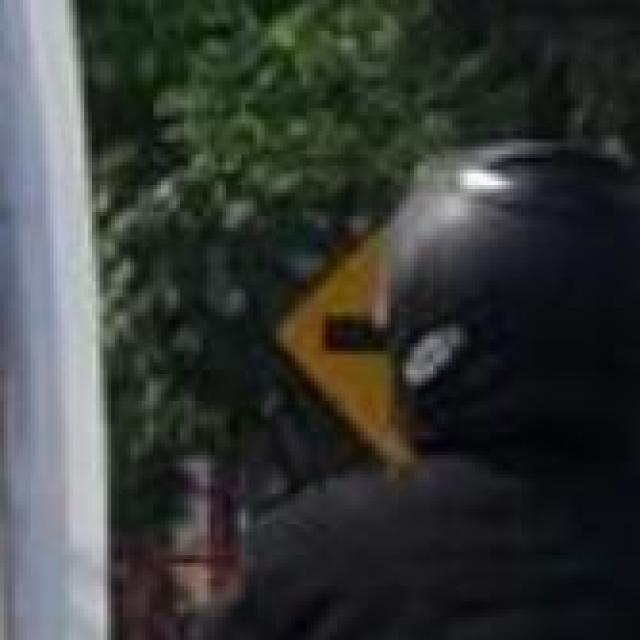traffic sign: (280, 212, 391, 470)
